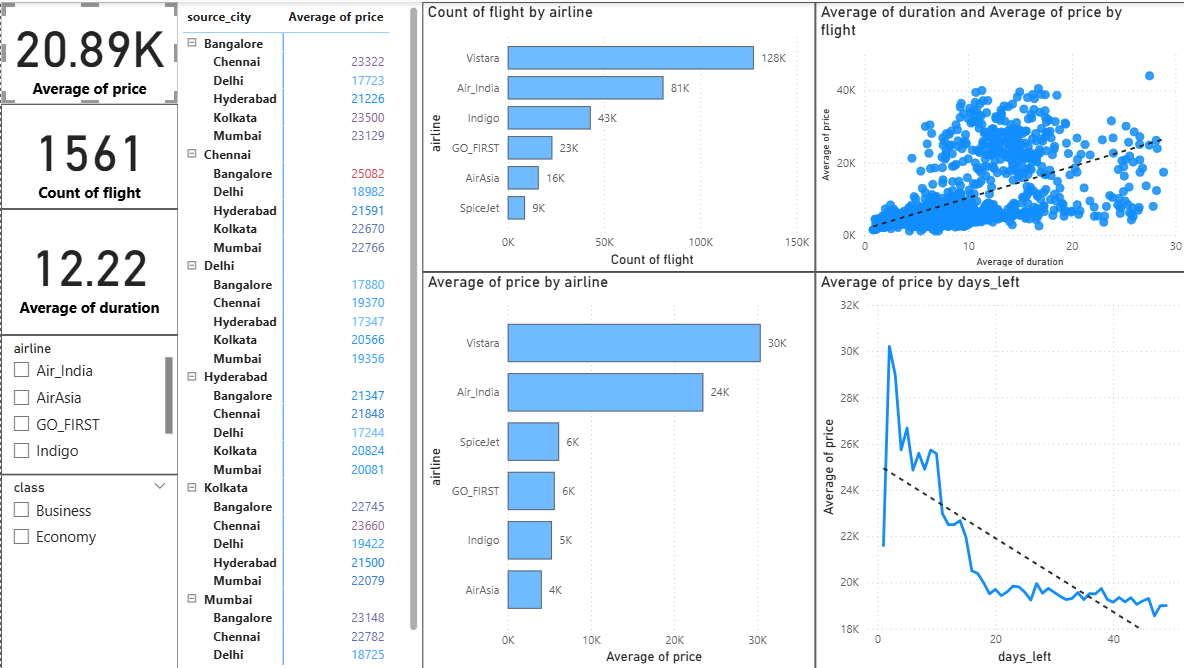

This screenshot's page, from the dashboard's own definition file:
{"tool":"powerbi","page":{"name":"Dashboard","canvas":[1280,720],"ordinal":5},"visuals":[{"type":"card","fields":{"Values":["Avg(Indian Airlines.price)"]},"box":[0,0,191.1,110.1],"z":0},{"type":"card","fields":{"Values":["Count(Indian Airlines.flight)"]},"box":[0,110.1,191.1,113.3],"z":1000},{"type":"card","fields":{"Values":["Avg(Indian Airlines.duration)"]},"box":[0,223.5,191.1,136],"z":2000},{"type":"slicer","fields":{"Values":["Indian Airlines.airline"]},"box":[0,359.5,191.1,150.6],"z":3000},{"type":"slicer","fields":{"Values":["Indian Airlines.class"]},"box":[0,510.1,191.1,210.5],"z":4000},{"type":"pivotTable","fields":{"Rows":["Indian Airlines.source_city","Indian Airlines.destination_city"],"Values":["Avg(Indian Airlines.price)"]},"box":[191.1,0,263.9,720.6],"z":5000},{"type":"barChart","fields":{"Category":["Indian Airlines.airline"],"Y":["CountNonNull(Indian Airlines.flight)"]},"box":[455,0,424.2,291.5],"z":6000},{"type":"barChart","fields":{"Category":["Indian Airlines.airline"],"Y":["Avg(Indian Airlines.price)"]},"box":[455,291.5,424.2,429.1],"z":7000},{"type":"scatterChart","fields":{"X":["Avg(Indian Airlines.duration)"],"Y":["Avg(Indian Airlines.price)"],"Category":["Indian Airlines.flight"]},"box":[879.2,0,401.6,291.5],"z":8000},{"type":"lineChart","fields":{"Category":["Indian Airlines.days_left"],"Y":["Avg(Indian Airlines.price)"]},"box":[879,291,401,429],"z":9000}]}

Visuals, with their boxes in screenshot pixels (x1, y1, x2, y2), scaled from the page's 1280x720 canvas onto the 1184x668 screenshot:
card - Avg(Indian Airlines.price): [0,0,177,102]
card - Count(Indian Airlines.flight): [0,102,177,207]
card - Avg(Indian Airlines.duration): [0,207,177,334]
slicer - Indian Airlines.airline: [0,334,177,473]
slicer - Indian Airlines.class: [0,473,177,667]
pivotTable - Indian Airlines.source_city x Indian Airlines.destination_city: [177,0,421,667]
barChart - Indian Airlines.airline x CountNonNull(Indian Airlines.flight): [421,0,813,270]
barChart - Indian Airlines.airline x Avg(Indian Airlines.price): [421,270,813,667]
scatterChart - Avg(Indian Airlines.duration) x Avg(Indian Airlines.price): [813,0,1183,270]
lineChart - Indian Airlines.days_left x Avg(Indian Airlines.price): [813,270,1183,667]
